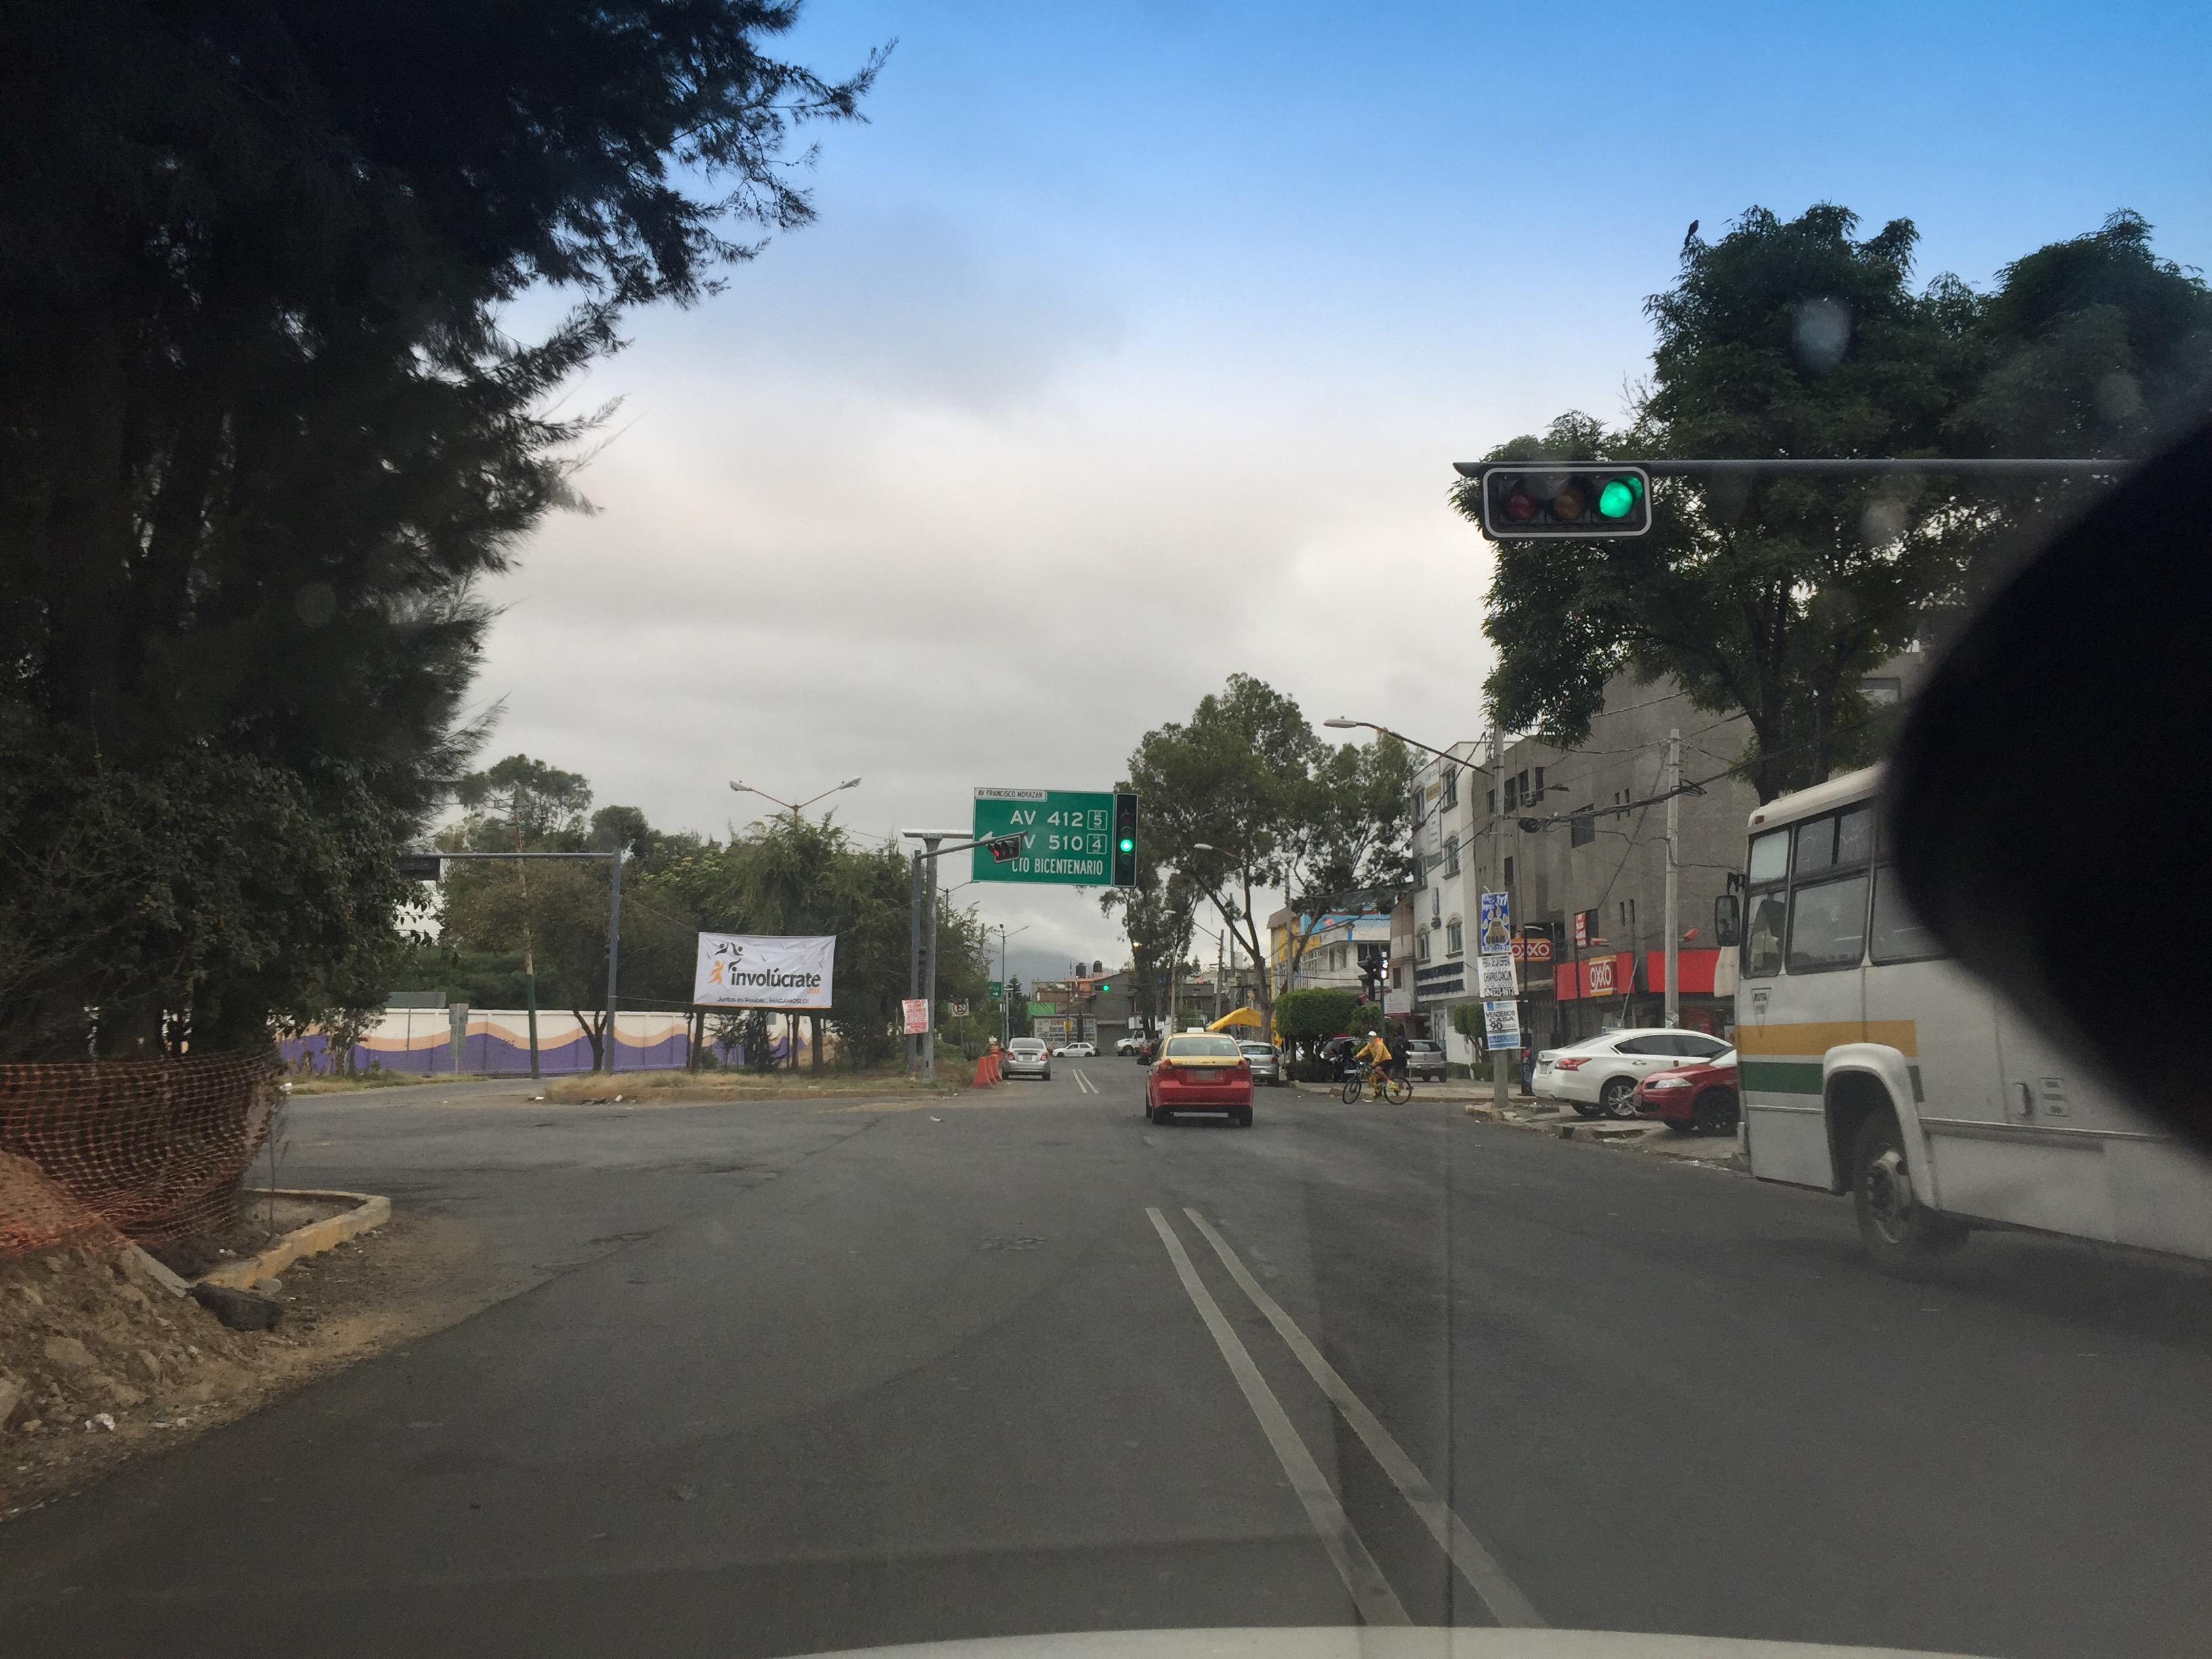vinyl banner: (697, 911, 853, 1035)
